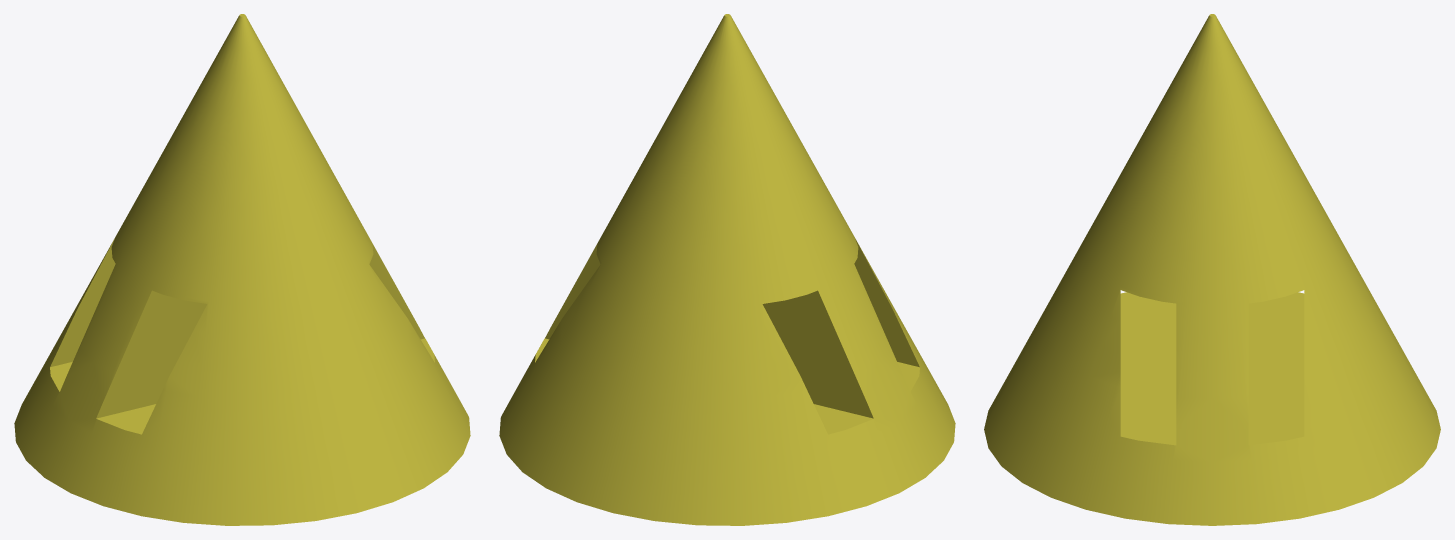
Rendered from var_22.glb.
3 renders of one model, left to right at view 1: azimuth 30°, elevation 25°; view 2: azimuth 150°, elevation 25°; view 3: azimuth 270°, elevation 25°, orthographic.
Parts seen in each view (by area): view 1: Cylinder; view 2: Cylinder; view 3: Cylinder.
Part boxes in pixels (bbox=[...]): Cylinder: bbox=[14, 14, 470, 525]; Cylinder: bbox=[499, 14, 955, 525]; Cylinder: bbox=[984, 14, 1440, 525].
Bounding box in the file's own units: 2 × 2 × 2.
